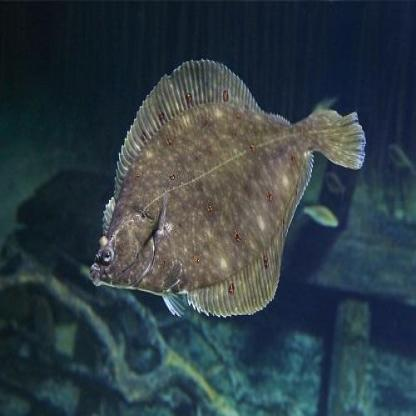flounder: (88, 49, 374, 335)
